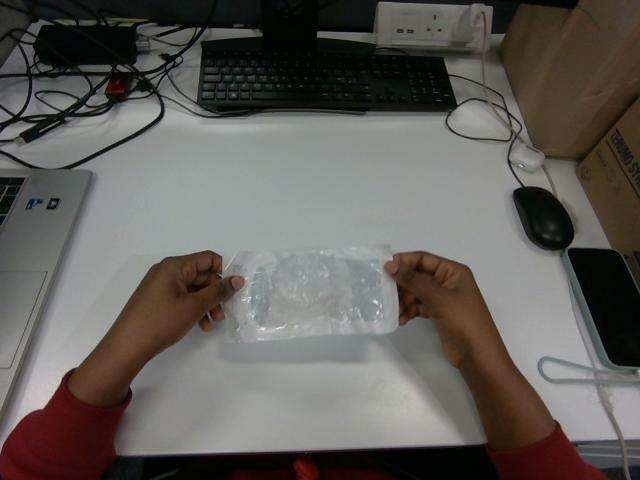gallipot: (223, 246, 398, 342)
